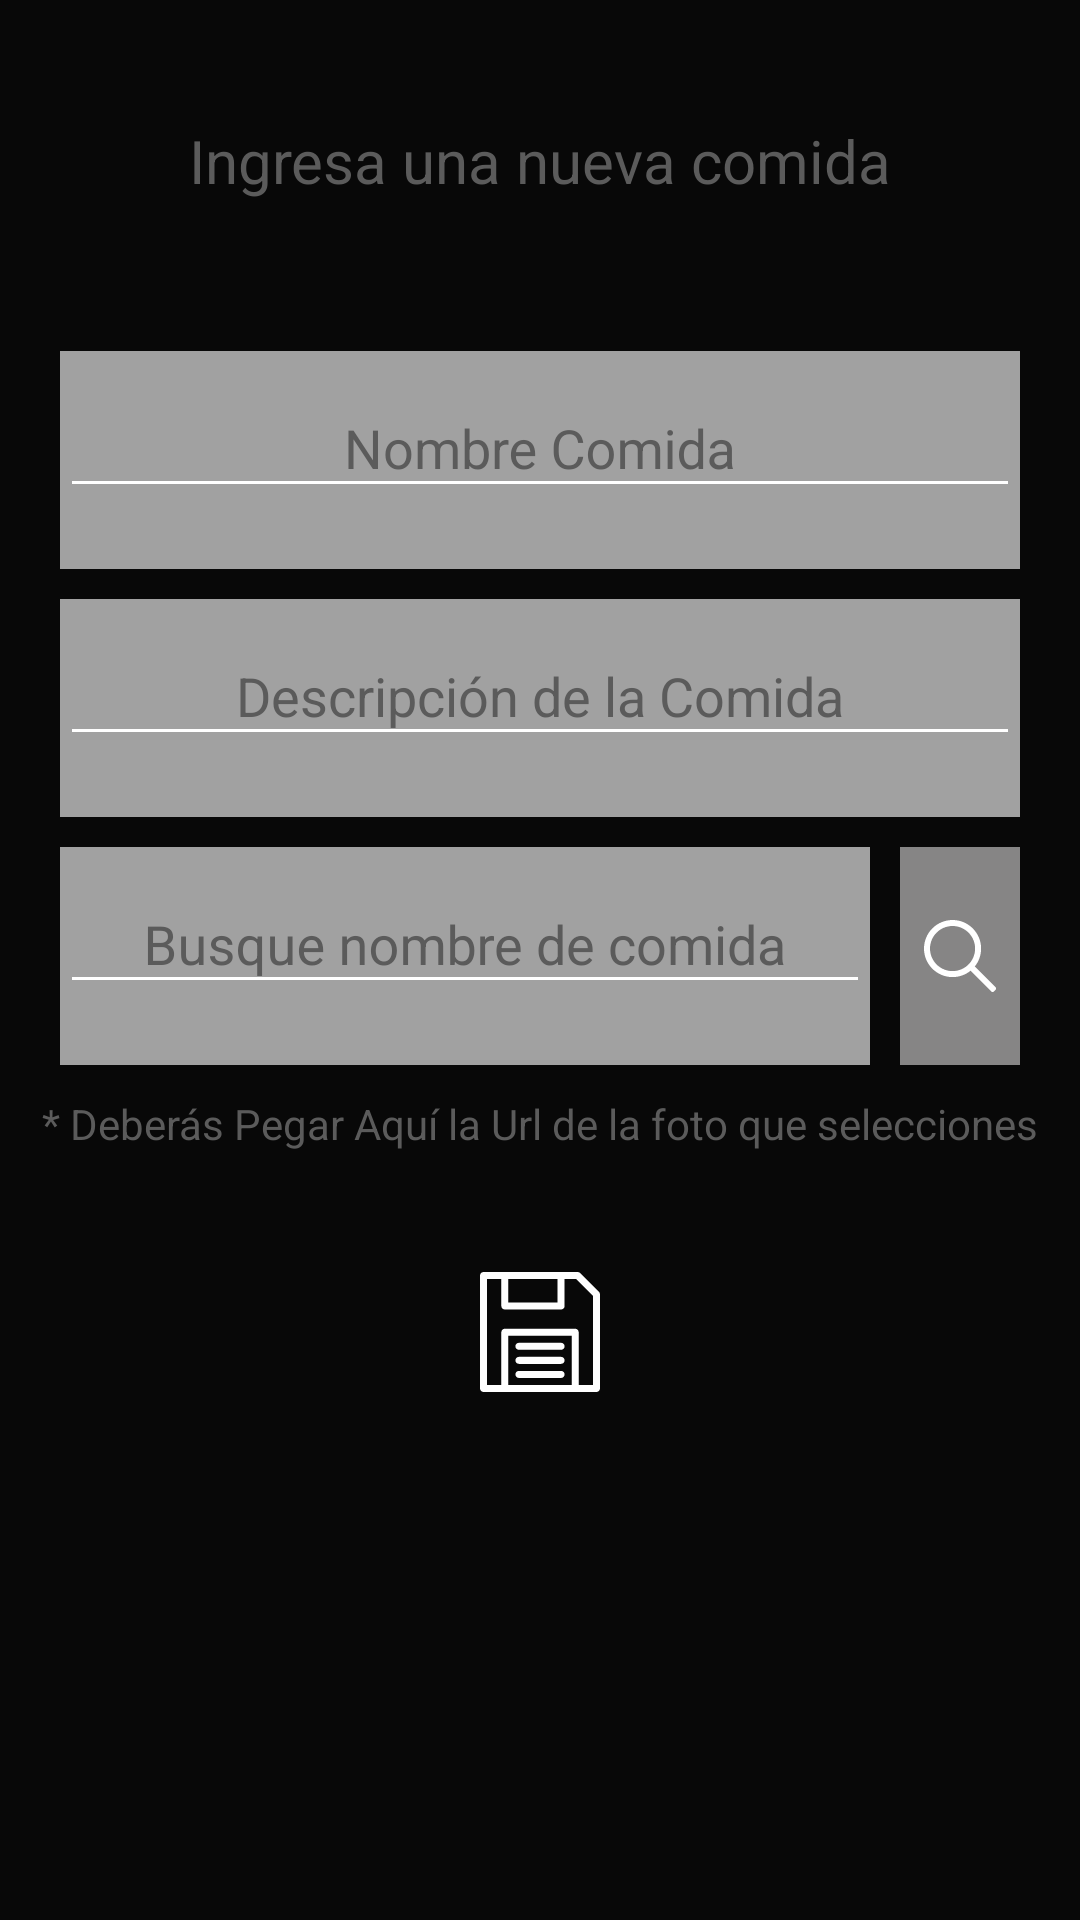

Named icons in this screenshot (1080×1920) and their bounding boxes, rect(x1, y1, x2, y2):
diskette: rect(480, 1272, 600, 1392)
search: rect(900, 847, 1020, 1065)
